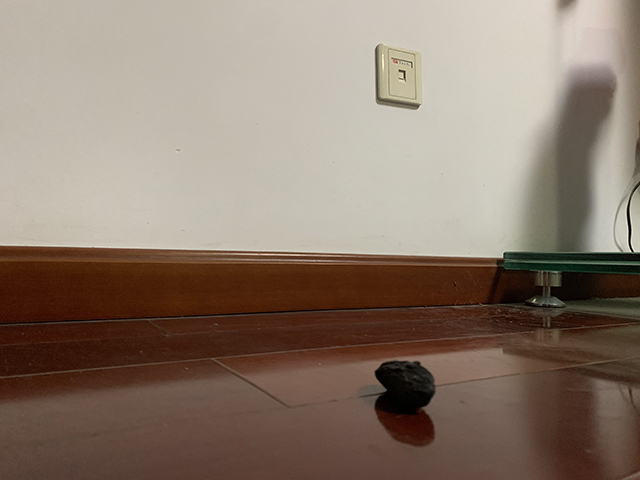feces: (374, 357, 437, 408)
